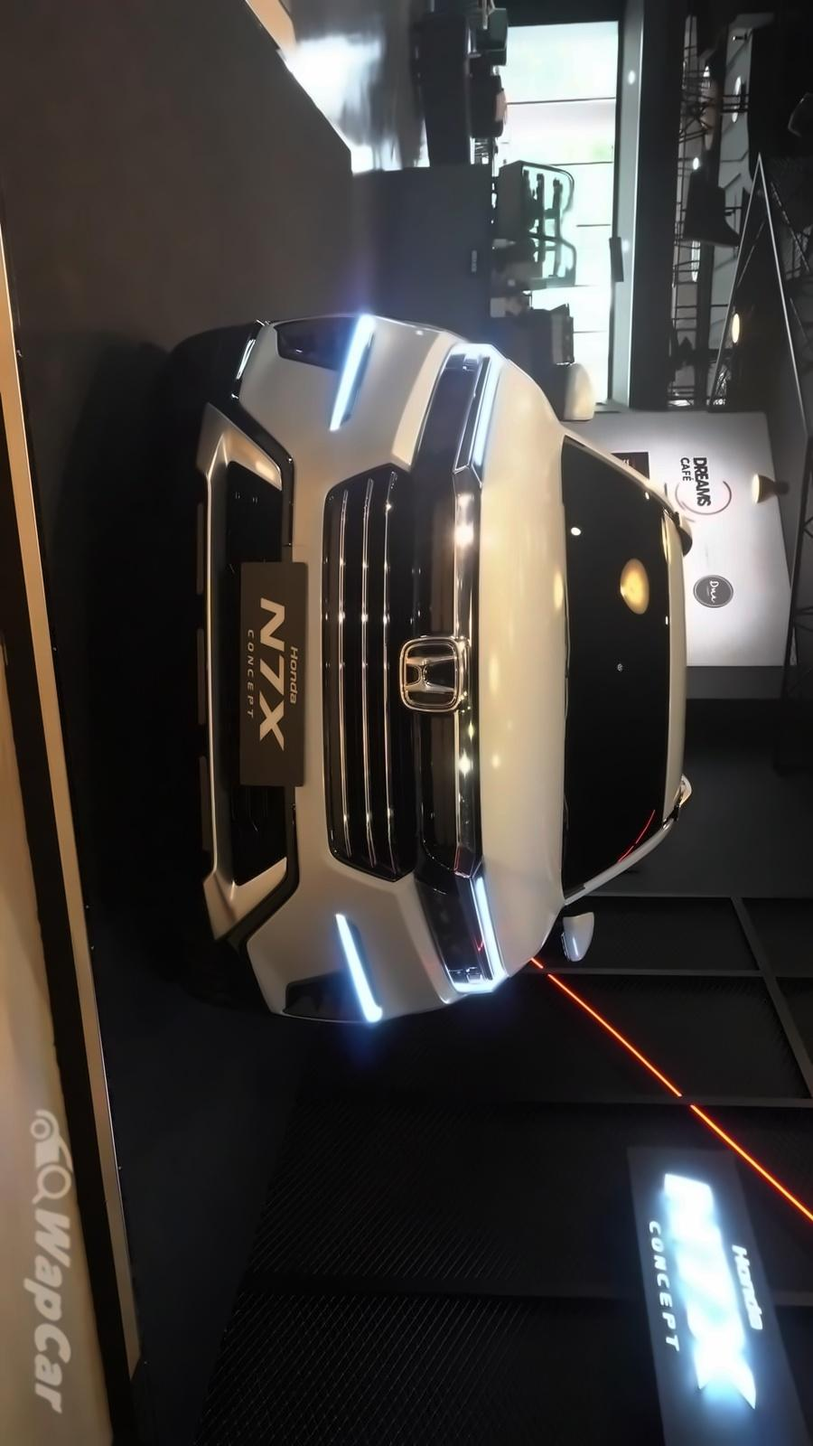Car hood: (475, 347, 565, 984)
Front bumper: (161, 300, 412, 1044)
Headlight - -L-: (408, 850, 517, 1019)
Headlight - -R-: (418, 324, 514, 500)
Side mirror - -L-: (553, 891, 603, 966)
Side mirror - -R-: (539, 353, 608, 431)
